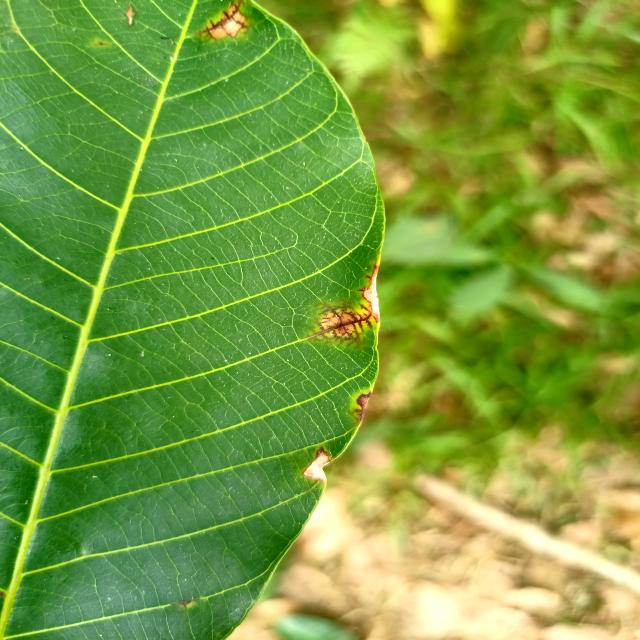Corynespora: (303, 304, 377, 346), (196, 1, 243, 39)
Leaf-Blight: (303, 452, 330, 481), (366, 266, 380, 321), (358, 396, 371, 422)
